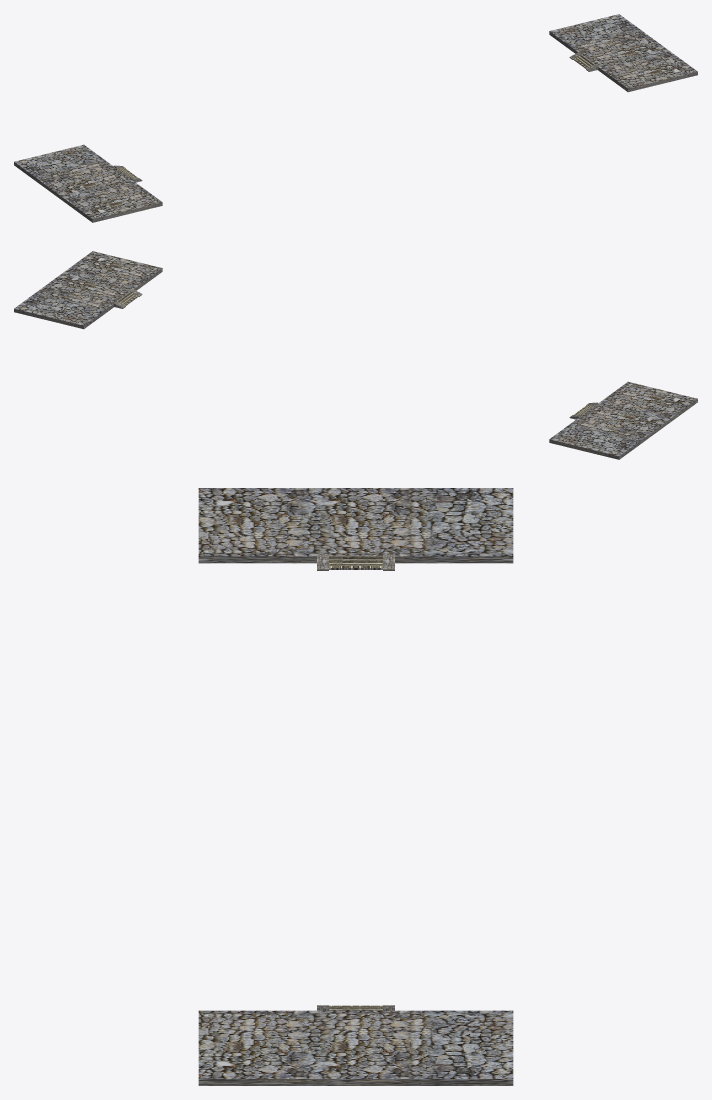
The model's file is casetas1-1templos.fbx.
The picture shows the model from 3 angles, top to bottom: view 1: azimuth 30°, elevation 25°; view 2: azimuth 150°, elevation 25°; view 3: azimuth 270°, elevation 25°; orthographic projection. The views are drawn at different scales.
Parts seen in each view (by area): view 1: Cube.007; view 2: Cube.007; view 3: Cube.007.
Part boxes in pixels (<box>): Cube.007: <box>14,14,697,222</box>; Cube.007: <box>14,251,697,459</box>; Cube.007: <box>198,488,513,1085</box>.
Size of the model in its own units: 1750 by 12.31 by 394.
Materials: 2 (2 with a texture image).
